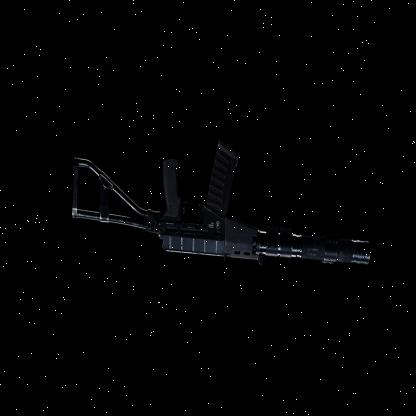rifle: (63, 121, 380, 284)
